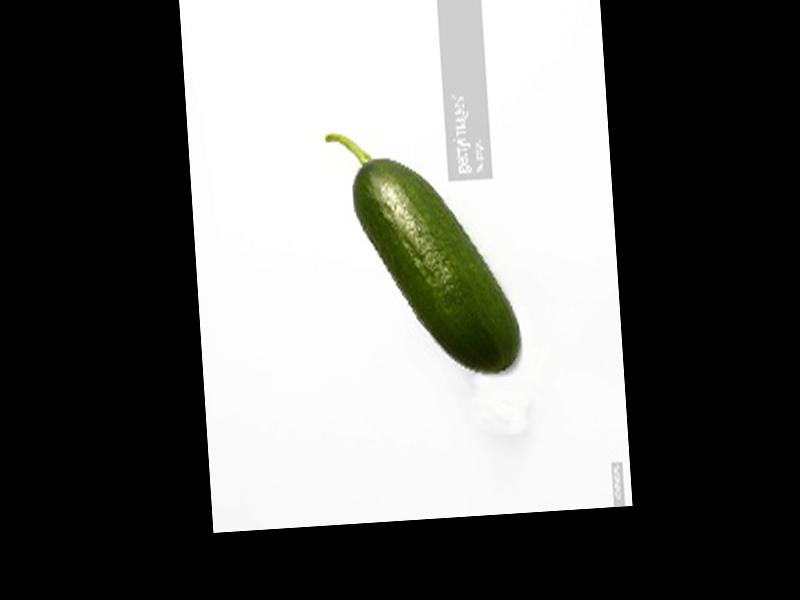Cucumber: (326, 118, 523, 380)
